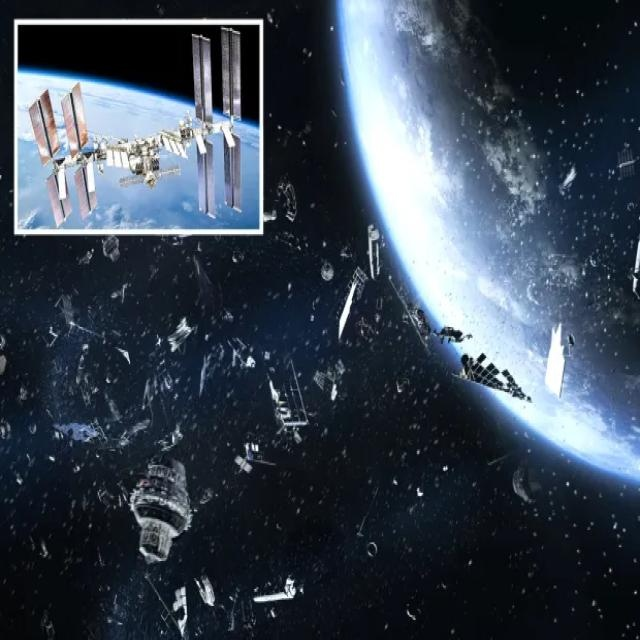large_debris: (122, 444, 199, 580), (259, 341, 319, 447), (328, 252, 384, 353), (449, 342, 527, 414), (222, 571, 310, 633), (169, 582, 193, 640)
